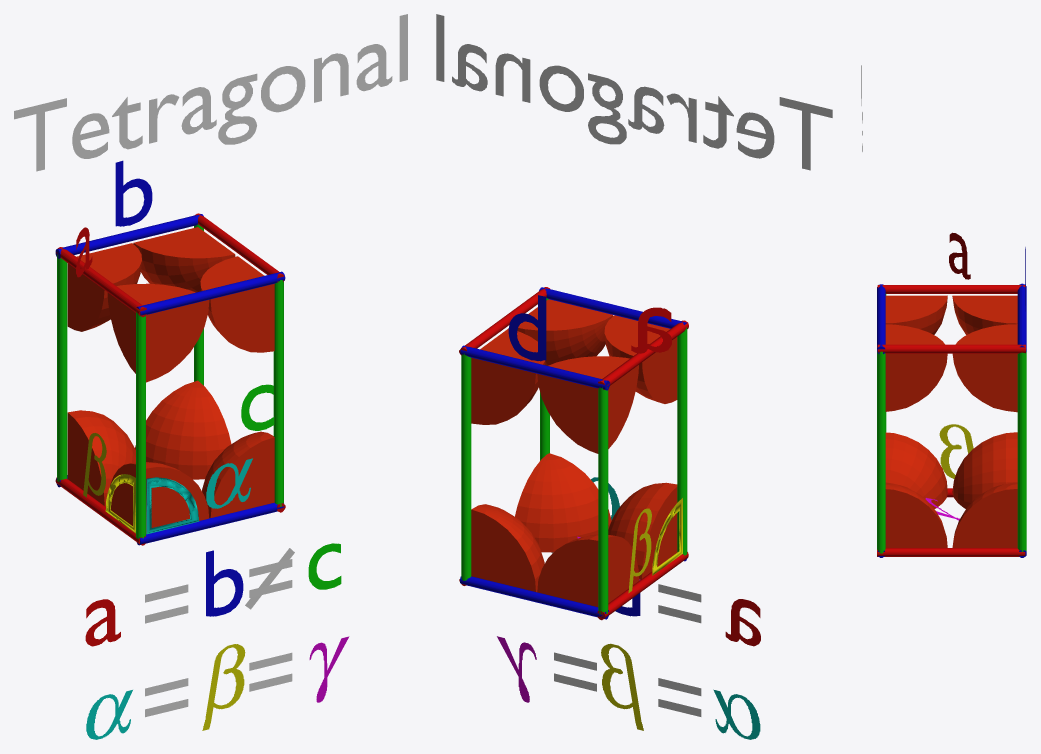
The model's file is tetragonal.obj.obj.
3 views of the same model, side by side, from view 1: azimuth 30°, elevation 25°; view 2: azimuth 150°, elevation 25°; view 3: azimuth 270°, elevation 25° (orthographic). The views are drawn at different scales.
Visible parts, largest first — view 1: Text.130_Text.085, Sphere.025_Sphere.041, Sphere.020_Sphere.036, Sphere.022_Sphere.038, Sphere.021_Sphere.037, Sphere.026_Sphere.042, Sphere.023_Sphere.039, Sphere.024_Sphere.040, Sphere.019_Sphere.035, Cylinder.033_Cylinder.043, Cylinder.027_Cylinder.037, Cylinder.035_Cylinder.045 (+21 smaller); view 2: Text.130_Text.085, Sphere.021_Sphere.037, Sphere.024_Sphere.040, Sphere.025_Sphere.041, Sphere.023_Sphere.039, Sphere.026_Sphere.042, Sphere.019_Sphere.035, Sphere.022_Sphere.038, Sphere.020_Sphere.036, Cylinder.030_Cylinder.040, Cylinder.033_Cylinder.043, Cylinder.035_Cylinder.045 (+16 smaller); view 3: Sphere.026_Sphere.042, Sphere.022_Sphere.038, Sphere.025_Sphere.041, Sphere.021_Sphere.037, Sphere.023_Sphere.039, Sphere.019_Sphere.035, Sphere.024_Sphere.040, Sphere.020_Sphere.036, Cylinder.030_Cylinder.040, Cylinder.027_Cylinder.037, Cylinder.029_Cylinder.039, Cylinder.028_Cylinder.038 (+5 smaller).
Boxes of the visible parts, x1=… form: Text.130_Text.085: x1=14, y1=14, x2=407, y2=171; Sphere.025_Sphere.041: x1=135, y1=380, x2=231, y2=479; Sphere.020_Sphere.036: x1=107, y1=283, x2=209, y2=382; Sphere.022_Sphere.038: x1=200, y1=256, x2=274, y2=352; Sphere.021_Sphere.037: x1=202, y1=431, x2=274, y2=517; Sphere.026_Sphere.042: x1=133, y1=227, x2=235, y2=292; Sphere.023_Sphere.039: x1=67, y1=410, x2=135, y2=506; Sphere.024_Sphere.040: x1=67, y1=243, x2=141, y2=331; Sphere.019_Sphere.035: x1=110, y1=462, x2=209, y2=533; Cylinder.033_Cylinder.043: x1=57, y1=254, x2=67, y2=481; Cylinder.027_Cylinder.037: x1=273, y1=280, x2=283, y2=506; Cylinder.035_Cylinder.045: x1=136, y1=311, x2=145, y2=538; Text.130_Text.085: x1=436, y1=14, x2=832, y2=170; Sphere.021_Sphere.037: x1=515, y1=453, x2=611, y2=552; Sphere.024_Sphere.040: x1=537, y1=356, x2=638, y2=453; Sphere.025_Sphere.041: x1=471, y1=504, x2=544, y2=592; Sphere.023_Sphere.039: x1=537, y1=534, x2=639, y2=606; Sphere.026_Sphere.042: x1=471, y1=328, x2=545, y2=424; Sphere.019_Sphere.035: x1=608, y1=482, x2=677, y2=579; Sphere.022_Sphere.038: x1=517, y1=299, x2=613, y2=365; Sphere.020_Sphere.036: x1=604, y1=315, x2=677, y2=403; Cylinder.030_Cylinder.040: x1=461, y1=353, x2=471, y2=580; Cylinder.033_Cylinder.043: x1=598, y1=387, x2=608, y2=614; Cylinder.035_Cylinder.045: x1=677, y1=327, x2=687, y2=555; Sphere.026_Sphere.042: x1=952, y1=324, x2=1017, y2=412; Sphere.022_Sphere.038: x1=885, y1=324, x2=947, y2=411; Sphere.025_Sphere.041: x1=952, y1=482, x2=1017, y2=547; Sphere.021_Sphere.037: x1=885, y1=482, x2=947, y2=547; Sphere.023_Sphere.039: x1=952, y1=432, x2=1017, y2=508; Sphere.019_Sphere.035: x1=885, y1=432, x2=947, y2=508; Sphere.024_Sphere.040: x1=952, y1=295, x2=1017, y2=334; Sphere.020_Sphere.036: x1=885, y1=295, x2=947, y2=334; Cylinder.030_Cylinder.040: x1=1017, y1=352, x2=1026, y2=551; Cylinder.027_Cylinder.037: x1=877, y1=351, x2=885, y2=553; Cylinder.029_Cylinder.039: x1=877, y1=344, x2=1025, y2=353; Cylinder.028_Cylinder.038: x1=877, y1=548, x2=1025, y2=556.
Size of the model in its own units: 1.46 by 2.36 by 0.596.
